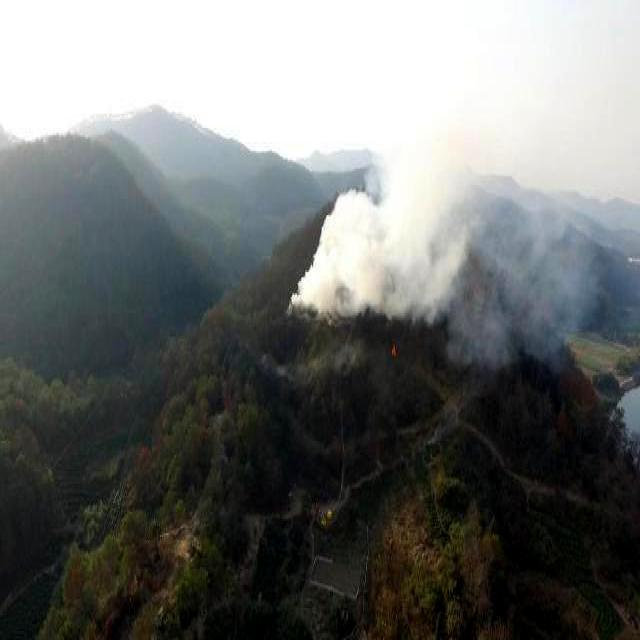Smoke: (283, 116, 500, 332)
